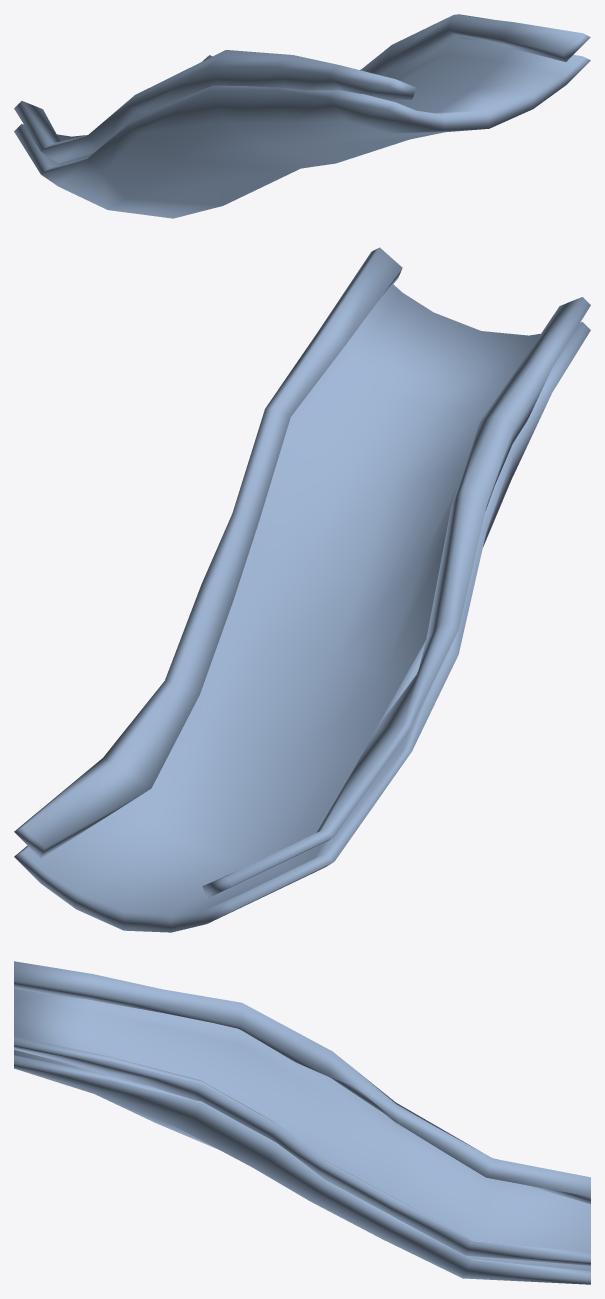
The model's file is junRoadShortSlope5.fbx.
The picture shows the model from 3 angles, top to bottom: view 1: azimuth 30°, elevation 25°; view 2: azimuth 150°, elevation 25°; view 3: azimuth 270°, elevation 25°; orthographic projection. The views are drawn at different scales.
Parts seen in each view (by area): view 1: roadShortSlope5_LOD0, roadShortSlope5_edge_LOD0; view 2: roadShortSlope5_LOD0, roadShortSlope5_edge_LOD0; view 3: roadShortSlope5_LOD0, roadShortSlope5_edge_LOD0.
Boxes of the visible parts, <box> form: roadShortSlope5_LOD0: <box>14,38,590,218</box>; roadShortSlope5_edge_LOD0: <box>14,14,590,163</box>; roadShortSlope5_LOD0: <box>14,284,590,932</box>; roadShortSlope5_edge_LOD0: <box>14,247,590,898</box>; roadShortSlope5_LOD0: <box>14,988,590,1284</box>; roadShortSlope5_edge_LOD0: <box>14,961,590,1265</box>.
Size of the model in its own units: 868 by 1068 by 1937.
